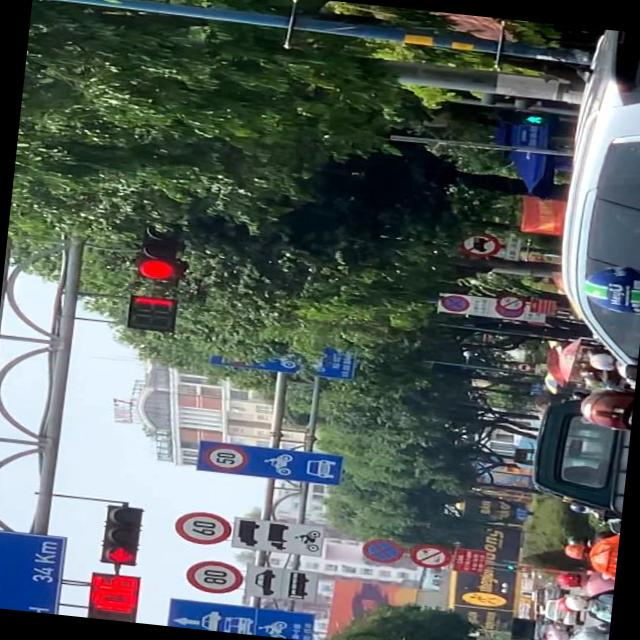P-127: (171, 508, 233, 548), (186, 554, 244, 594)
P-130: (359, 536, 403, 564)
